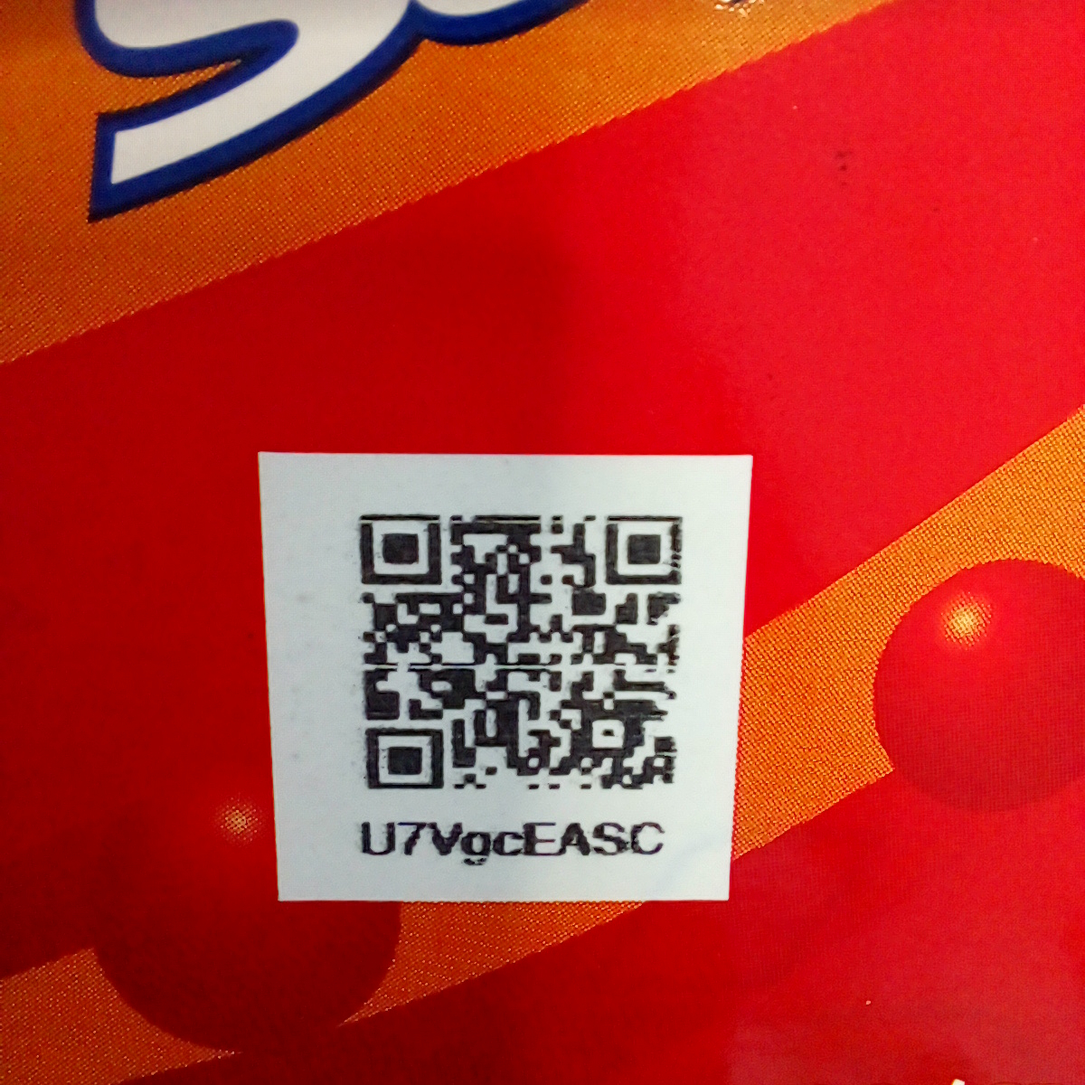QR-CODE: (347, 505, 698, 808)
